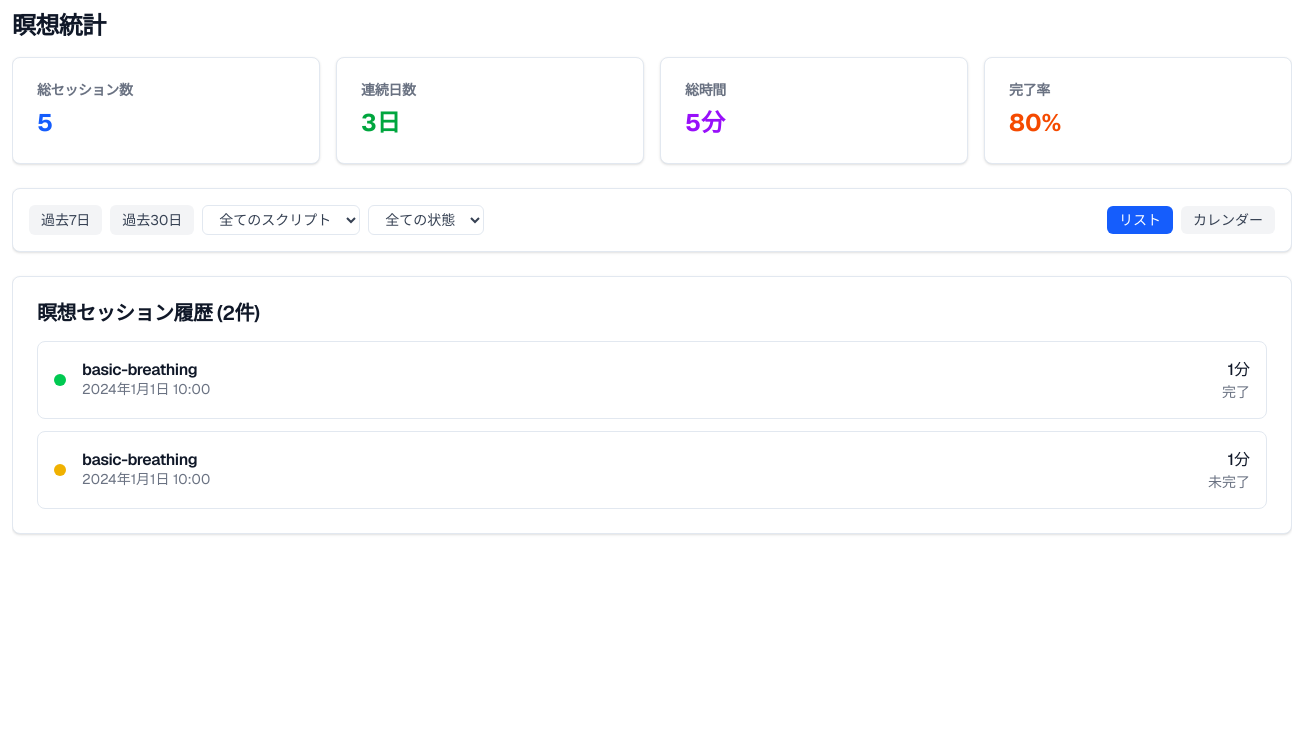
Scenario: MeditationHistory › should filter sessions by completion status
Step 1. Select "未完了" in the dropdown showing "全ての状態" → (426, 220), box [368,205,484,235]
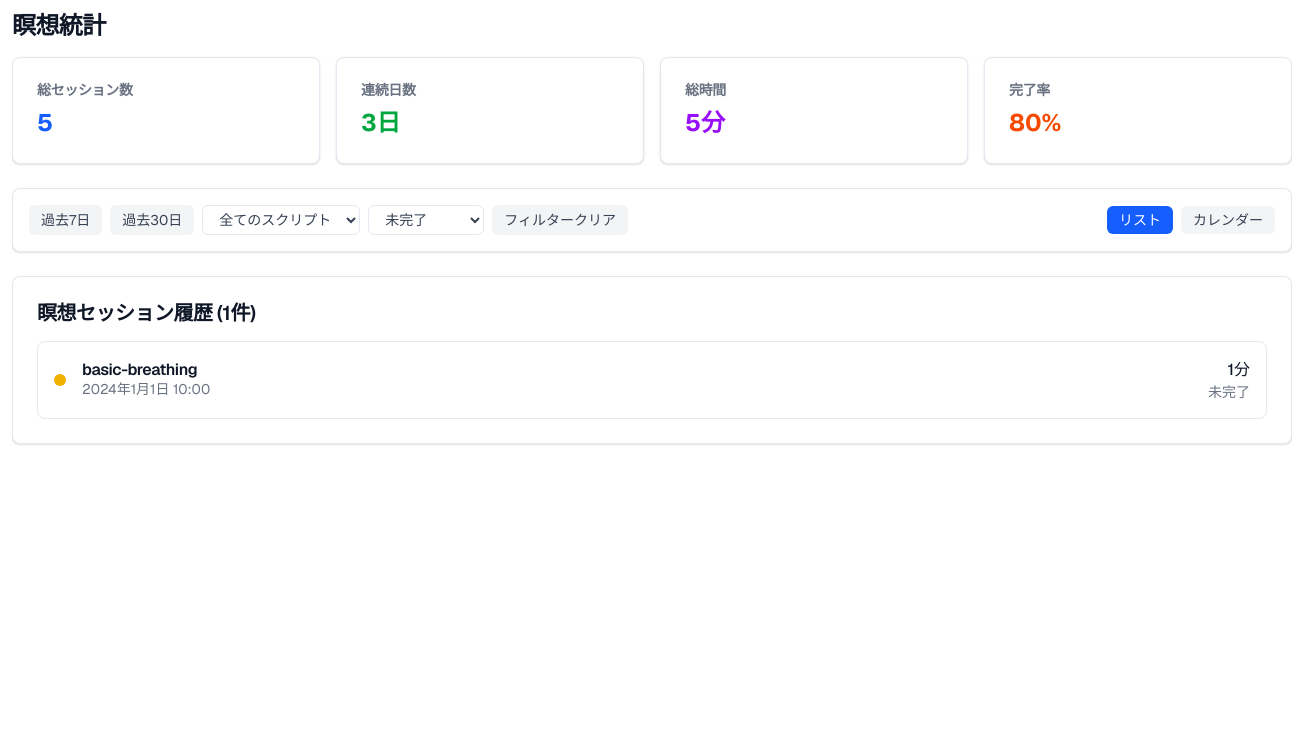
Result: the heading "瞑想セッション履歴 (1件)" is shown at [37,300,256,326]
